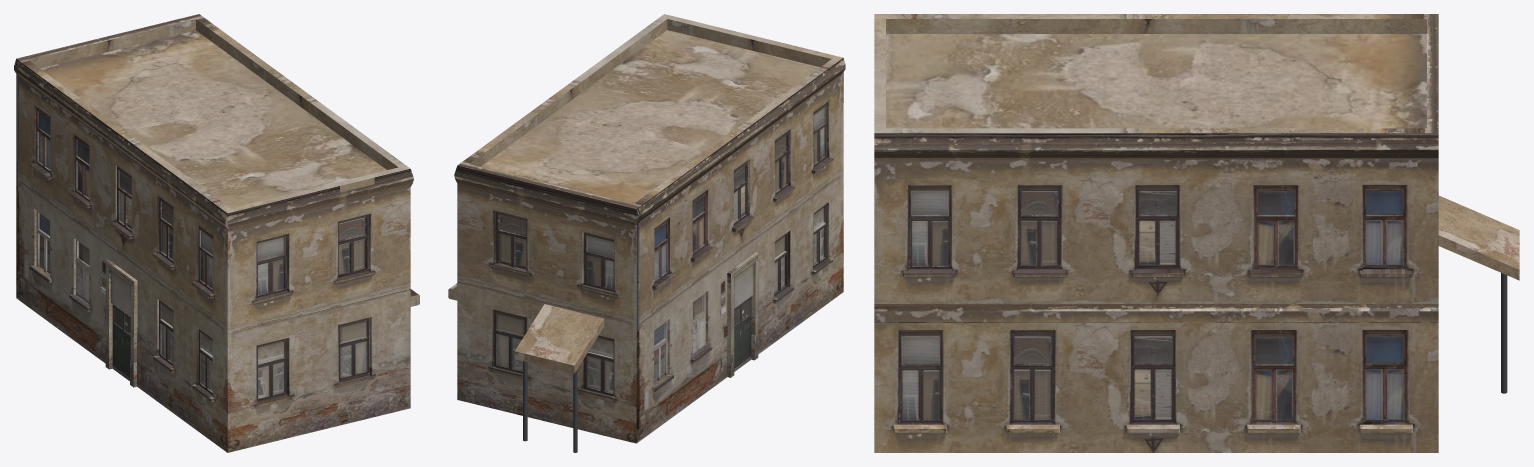
The model's file is derelict_building.glb.
3 views of the same model, side by side, from view 1: azimuth 30°, elevation 25°; view 2: azimuth 150°, elevation 25°; view 3: azimuth 270°, elevation 25° (orthographic). The views are drawn at different scales.
Parts seen in each view (by area): view 1: Cube.001_Building1_0, Cube.001_Building1 Windows_0; view 2: Cube.001_Building1_0, Cube.001_Building1 Windows_0; view 3: Cube.001_Building1_0, Cube.001_Building1 Windows_0.
Part boxes in pixels (left/top/right/bottom): Cube.001_Building1_0: left=14, top=14, right=419, bottom=452; Cube.001_Building1 Windows_0: left=39, top=112, right=366, bottom=397; Cube.001_Building1_0: left=448, top=14, right=845, bottom=452; Cube.001_Building1 Windows_0: left=497, top=108, right=824, bottom=393; Cube.001_Building1_0: left=874, top=14, right=1519, bottom=452; Cube.001_Building1 Windows_0: left=902, top=191, right=1403, bottom=422.
Bounding box in the file's own units: 4.28 × 5.01 × 9.15.
Materials: 2 (2 with a texture image).
